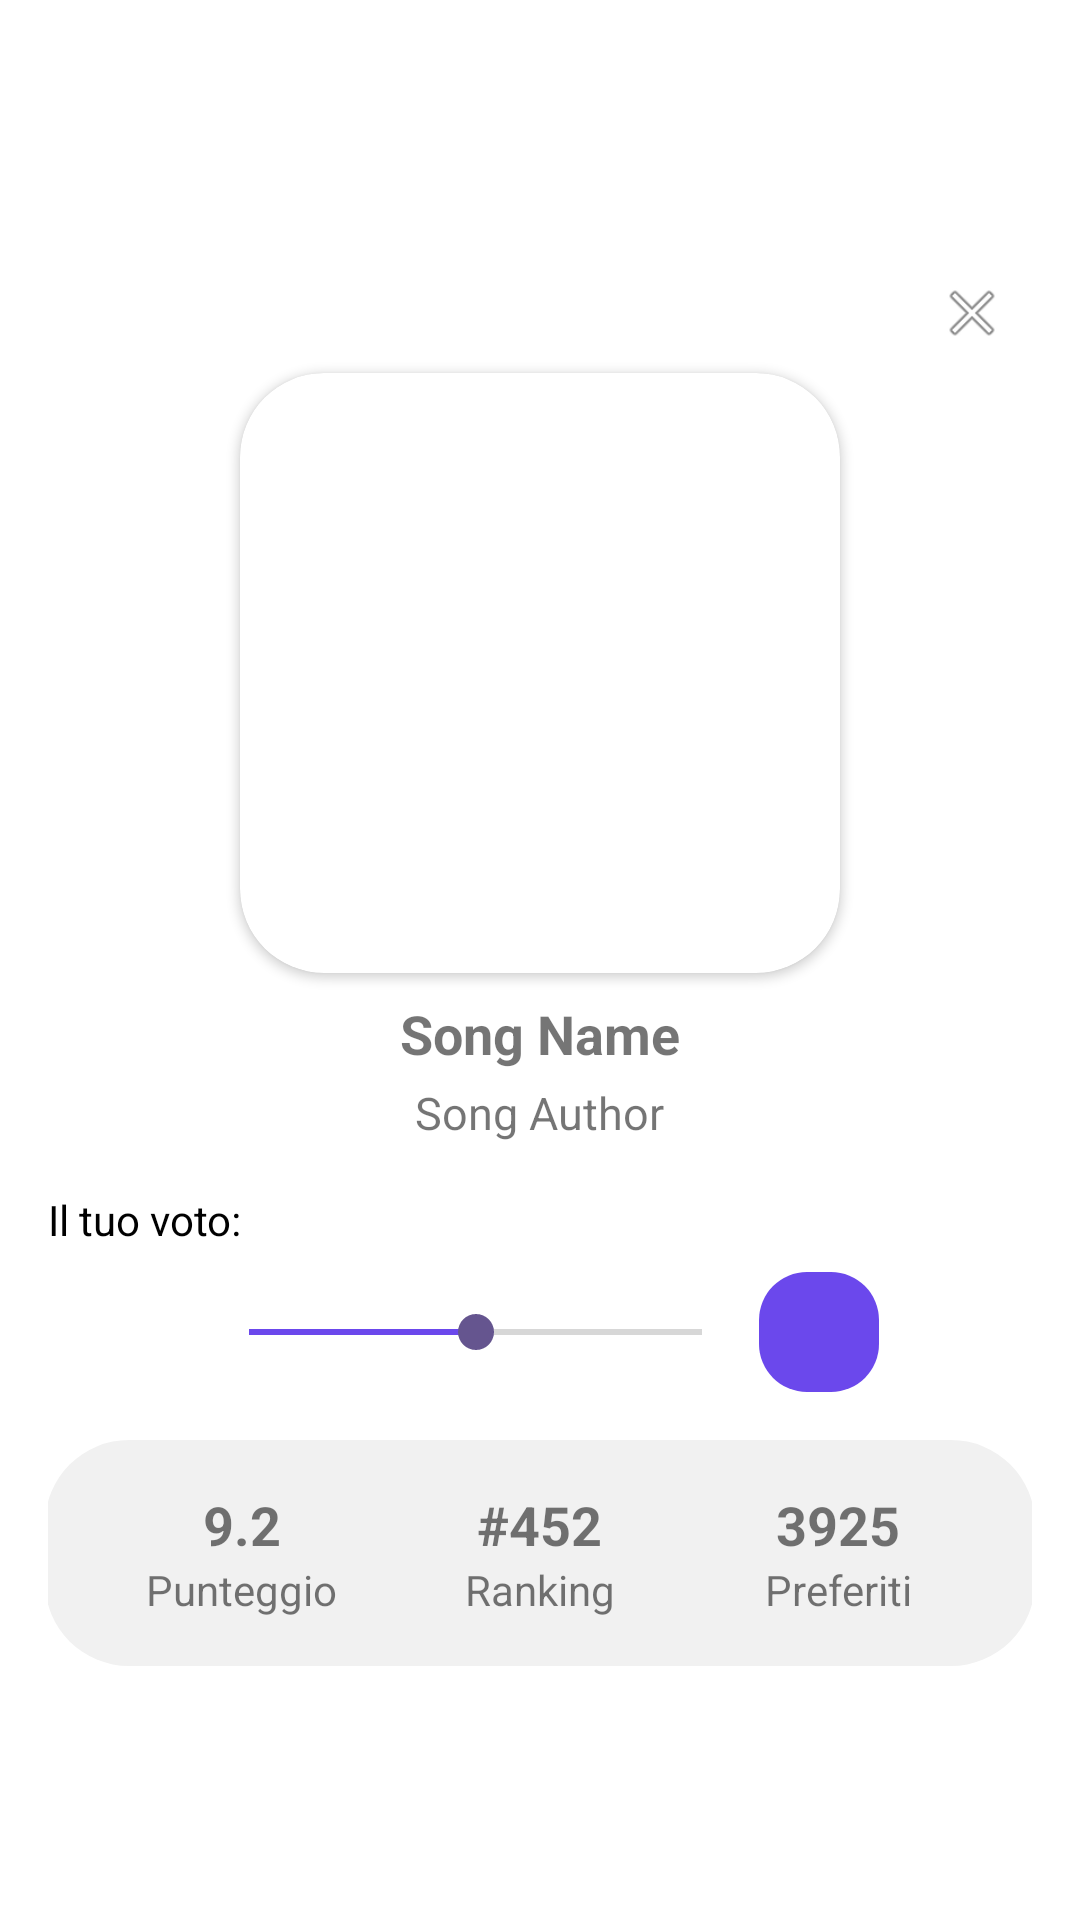

Named icons in this screenshot (1080×1920) and their bounding boxes, box(x1, y1, x2, y2):
close clear cancel: box(949, 290, 995, 336)
